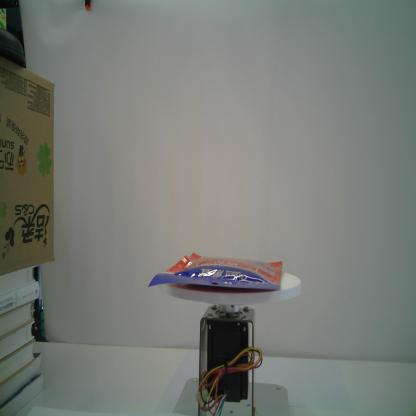Dried Fruit: (146, 250, 284, 294)
